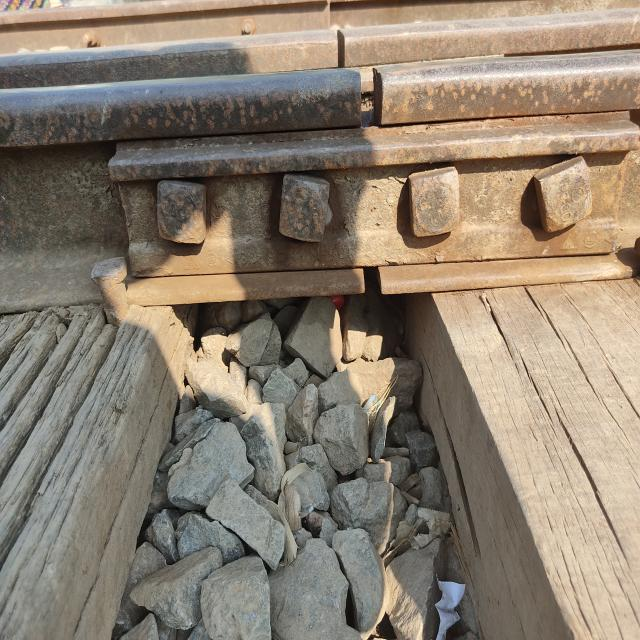defective: (237, 18, 514, 294)
